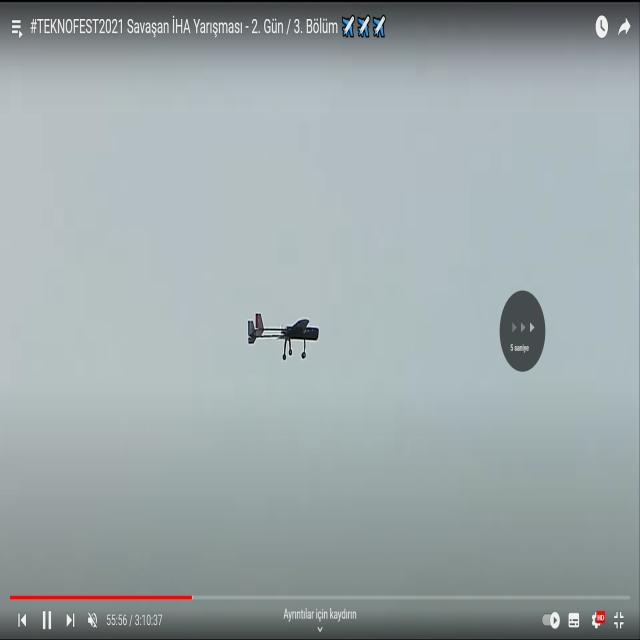iha: (281, 311, 284, 362)
